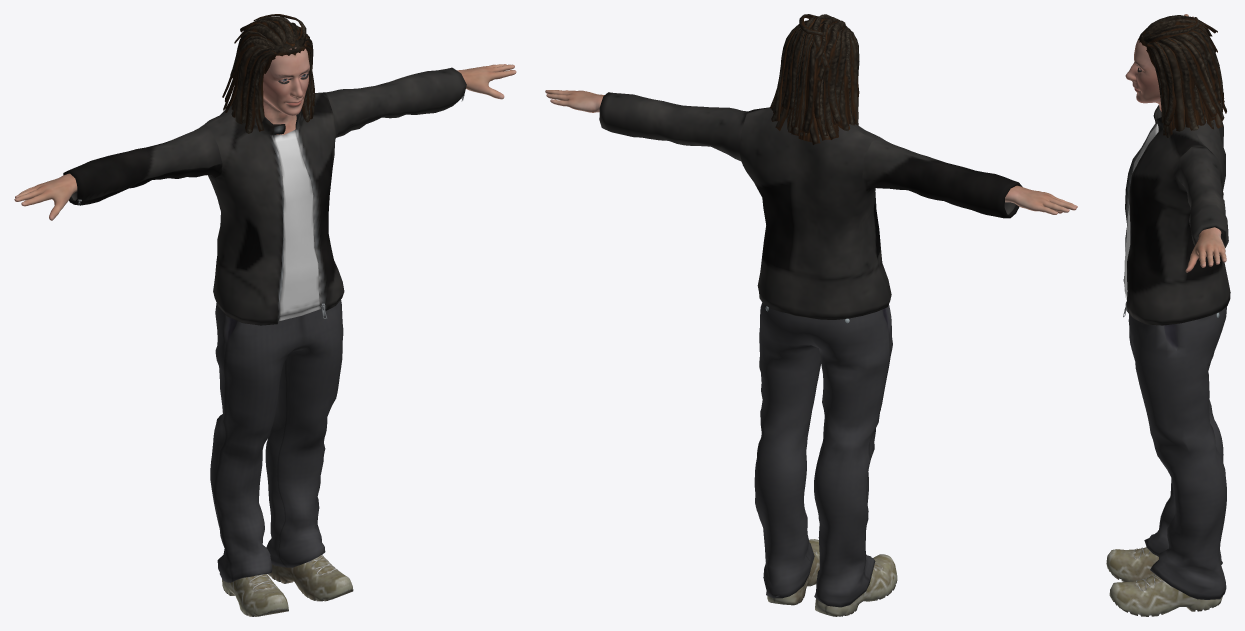
The model's file is Jake.obj.
3 renders of one model, left to right at view 1: azimuth 30°, elevation 25°; view 2: azimuth 150°, elevation 25°; view 3: azimuth 270°, elevation 25°, orthographic.
Parts seen in each view (by area): view 1: Tops, Bottoms, Hair, Body, Shoes; view 2: Tops, Bottoms, Hair, Shoes, Body; view 3: Bottoms, Tops, Hair, Shoes, Body.
Part boxes in pixels (x1,y1,x2,y2): Tops: (63, 67, 466, 325); Bottoms: (210, 300, 343, 582); Hair: (222, 14, 315, 133); Body: (14, 47, 516, 220); Shoes: (222, 555, 353, 616); Tops: (599, 92, 1022, 319); Bottoms: (754, 302, 892, 607); Hair: (770, 14, 859, 144); Shoes: (767, 539, 897, 616); Body: (545, 90, 1077, 214); Bottoms: (1128, 306, 1226, 599); Tops: (1123, 105, 1230, 325); Hair: (1138, 15, 1226, 137); Shoes: (1106, 547, 1222, 616); Body: (1125, 14, 1226, 272).
Bounding box in the file's own units: 174 × 185 × 36.23.
1 material, 1 textured.
